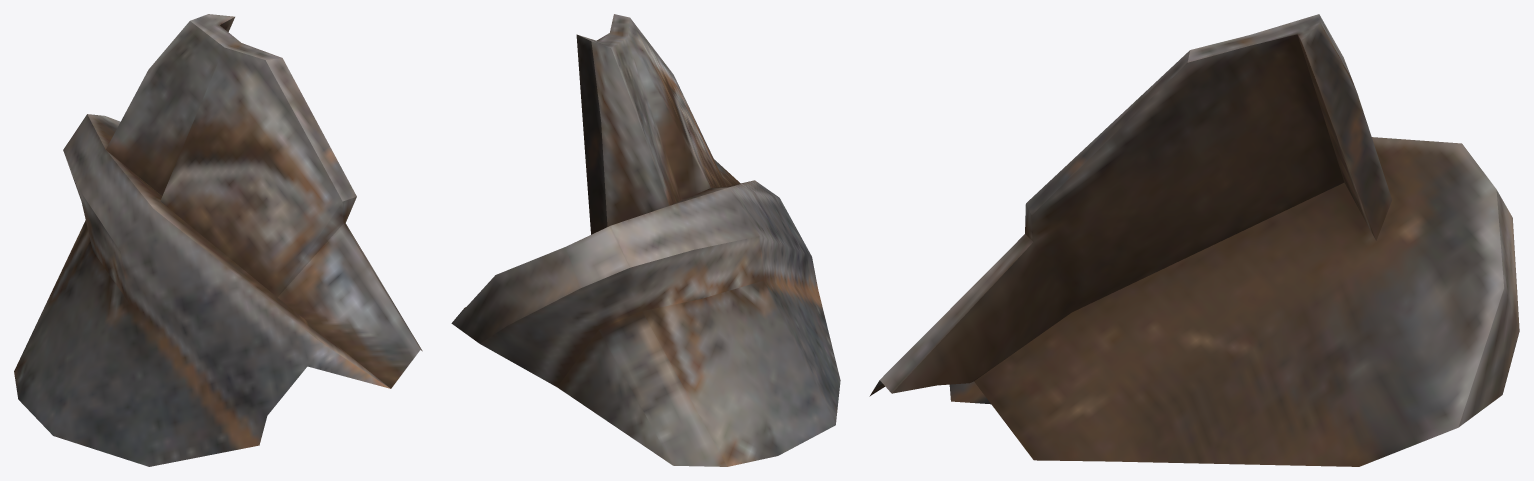
The model's file is plane_wreckage_debris_small_03.dae.
The picture shows the model from 3 angles, left to right: view 1: azimuth 30°, elevation 25°; view 2: azimuth 150°, elevation 25°; view 3: azimuth 270°, elevation 25°; orthographic projection. The views are drawn at different scales.
Parts seen in each view (by area): view 1: pasted__plane_wreckage_wing11; view 2: pasted__plane_wreckage_wing11; view 3: pasted__plane_wreckage_wing11.
Boxes of the visible parts, x1,y1,x2,y2 form: pasted__plane_wreckage_wing11: (14, 14, 422, 466); pasted__plane_wreckage_wing11: (451, 14, 840, 466); pasted__plane_wreckage_wing11: (869, 14, 1519, 466).
Bounding box in the file's own units: 73.62 × 82.42 × 99.96.
